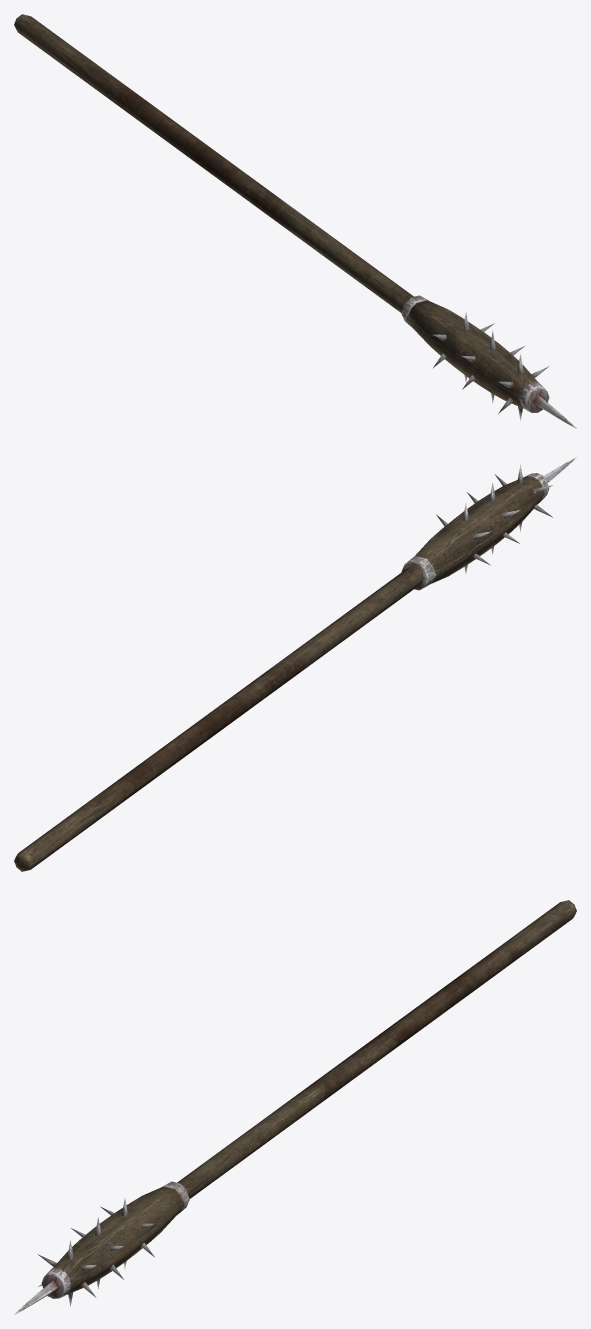
The picture shows the model from 3 angles, top to bottom: view 1: azimuth 30°, elevation 25°; view 2: azimuth 150°, elevation 25°; view 3: azimuth 330°, elevation 25°; orthographic projection.
Visible parts, largest first — view 1: WP_A_1017; view 2: WP_A_1017; view 3: WP_A_1017.
Boxes of the visible parts, left/top/right/bottom form: WP_A_1017: left=14, top=14, right=576, bottom=428; WP_A_1017: left=14, top=457, right=576, bottom=871; WP_A_1017: left=14, top=900, right=576, bottom=1314.
Bounding box in the file's own units: 12.86 × 15.11 × 207.
Materials: 1 (1 with a texture image).
